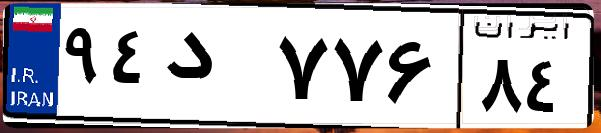4: (525, 38, 570, 115), (110, 28, 158, 98)
6: (385, 28, 445, 110)
7: (270, 28, 330, 110), (330, 28, 385, 110)
8: (475, 38, 525, 113)
9: (57, 26, 110, 100)
د: (158, 20, 270, 120)
